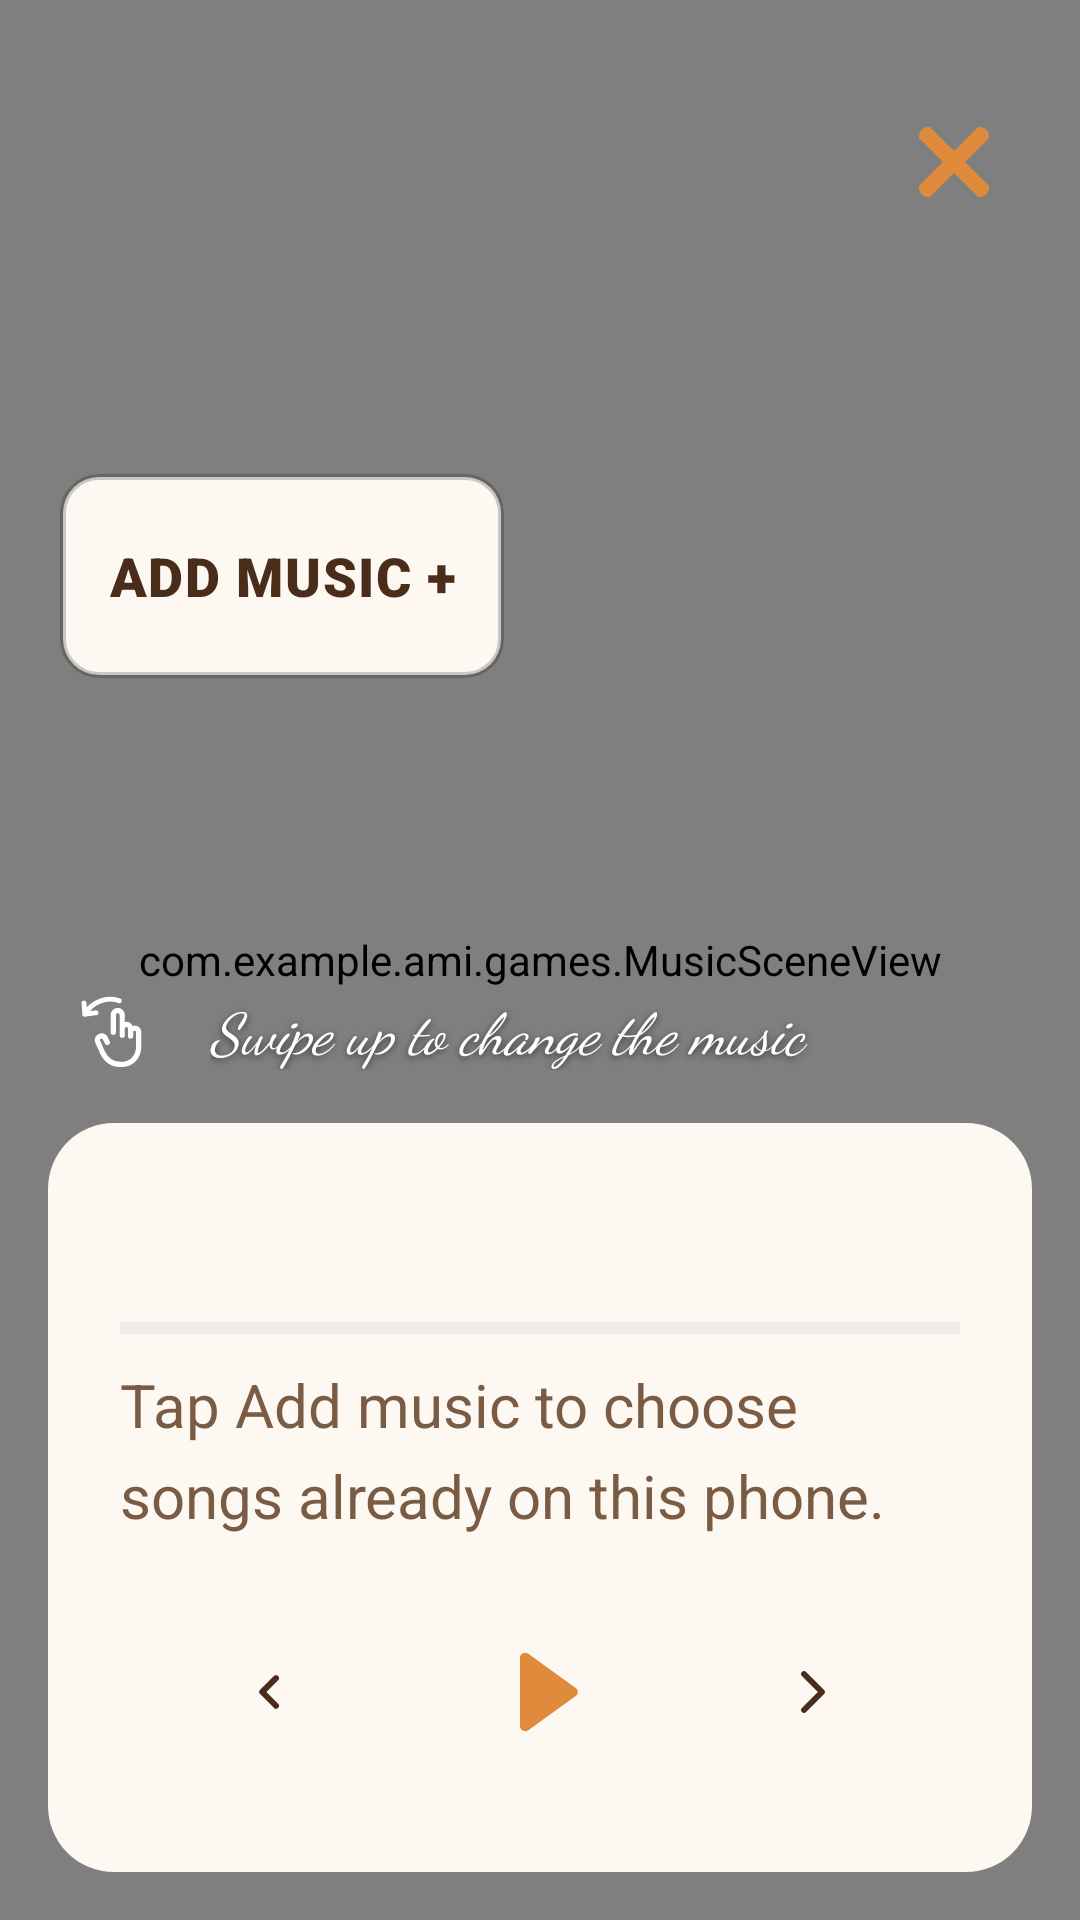

Where to tap for icons on this 1080×1920 app screen, as point (x, y):
Done for now: point (954, 162)
game swipe: point (111, 1031)
Next track: point (813, 1692)
Play or pause: point (549, 1692)
Previous track: point (269, 1692)
